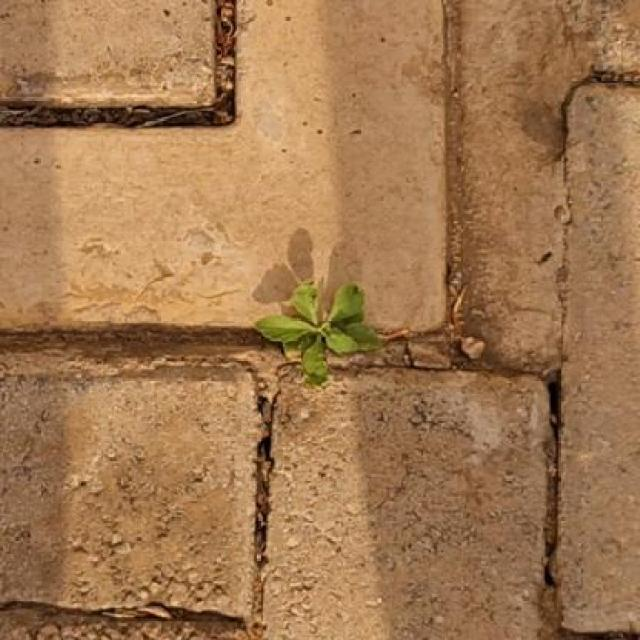weed: (255, 283, 382, 385)
